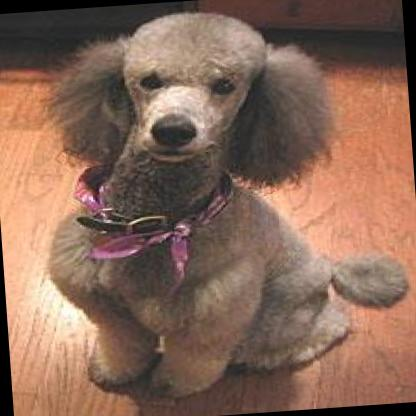standard_poodle: (26, 0, 411, 409)
